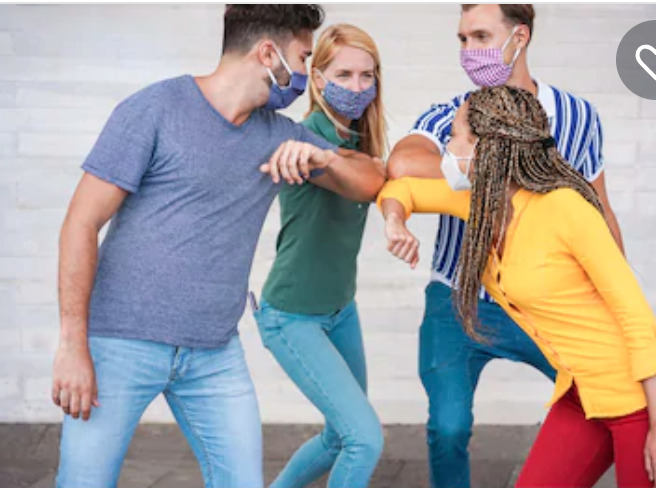Bad: (387, 4, 626, 488), (81, 4, 385, 174), (316, 6, 548, 118)
